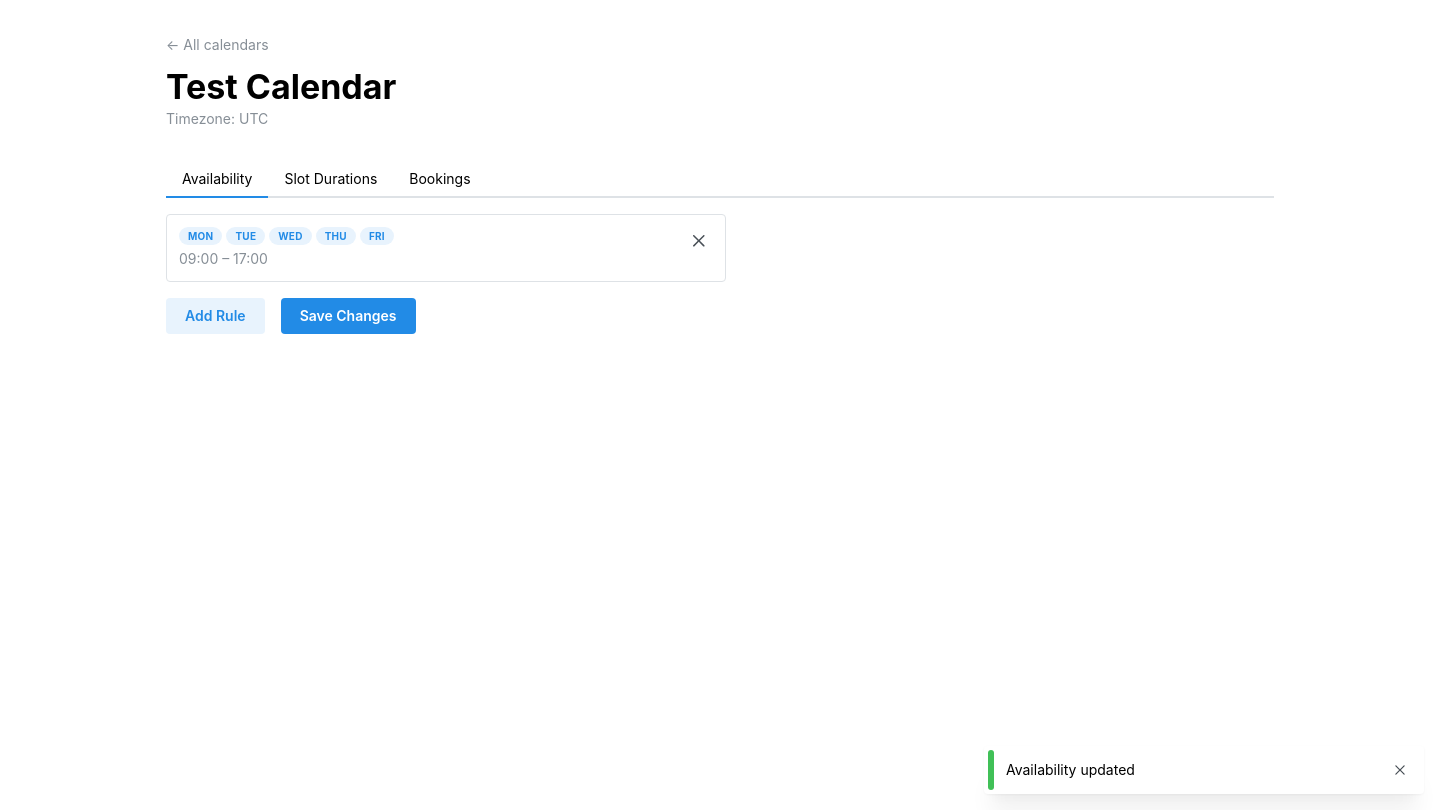
Test: ManagePage › Slot Durations tab › shows notification when adding a duplicate duration (409)
This screenshot has width=1440, height=810.
Expected: the heading "Test Calendar" is shown, [166,66,396,107]
Click the tab "Slot Durations" at (331, 180), box [268,162,393,198]
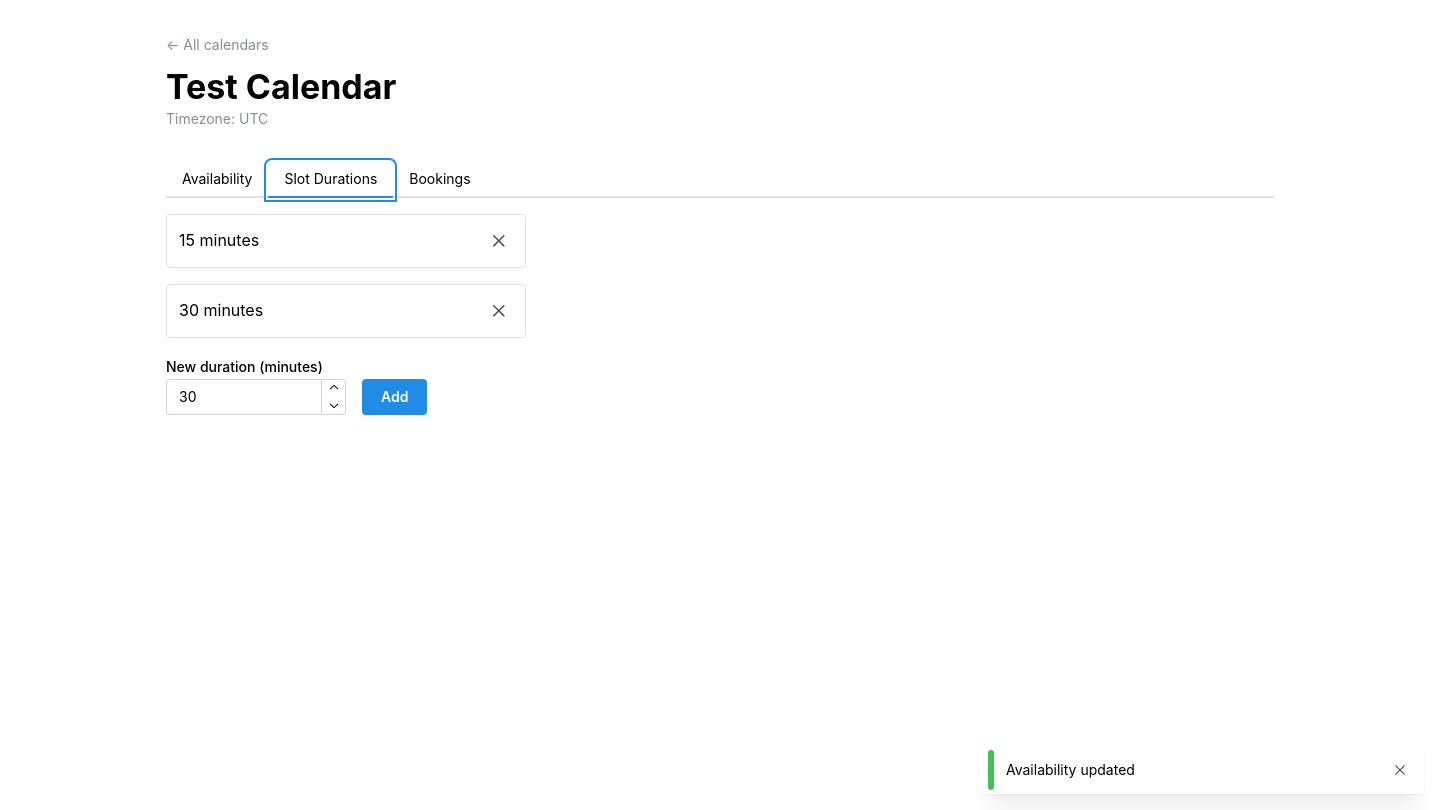
Now the text "15 minutes" is shown, box [179,228,259,253]
Click the button "Add" at (395, 397), box [362,379,428,415]
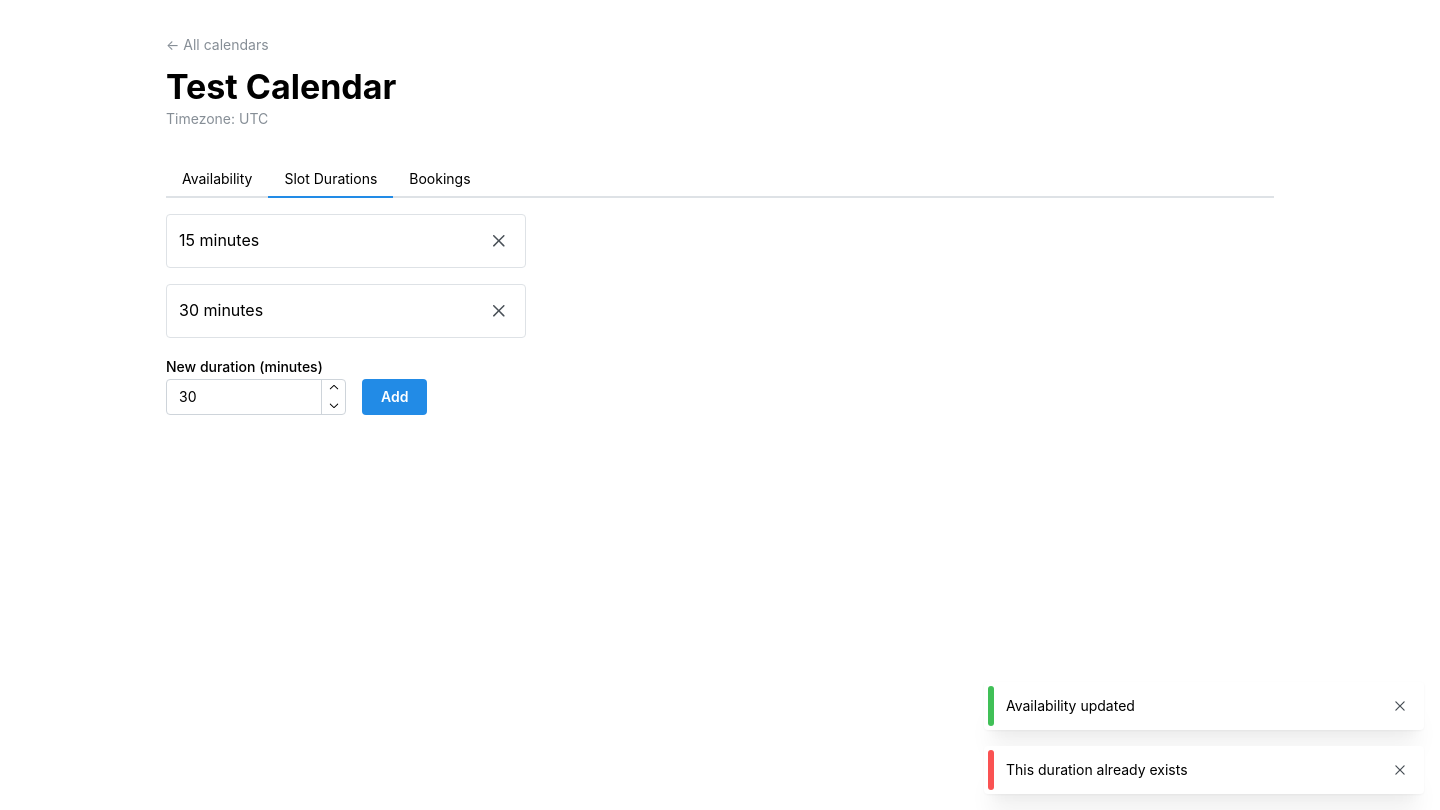
Now the text "This duration already exists" is shown, box [1006,761,1188,778]
